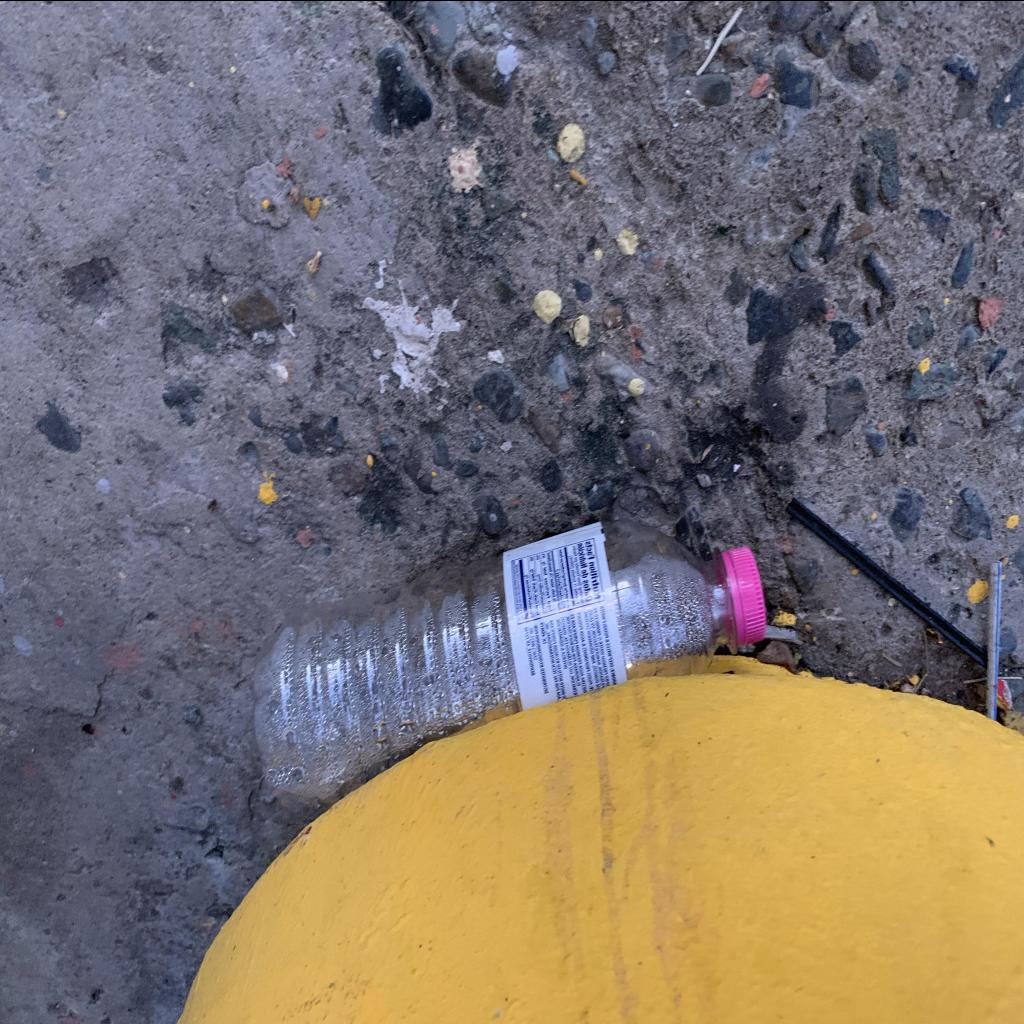Clear plastic bottle: (254, 518, 766, 798)
Plastic bottle cap: (728, 544, 766, 644)
Plastic straw: (786, 496, 986, 668), (986, 559, 1004, 719)
